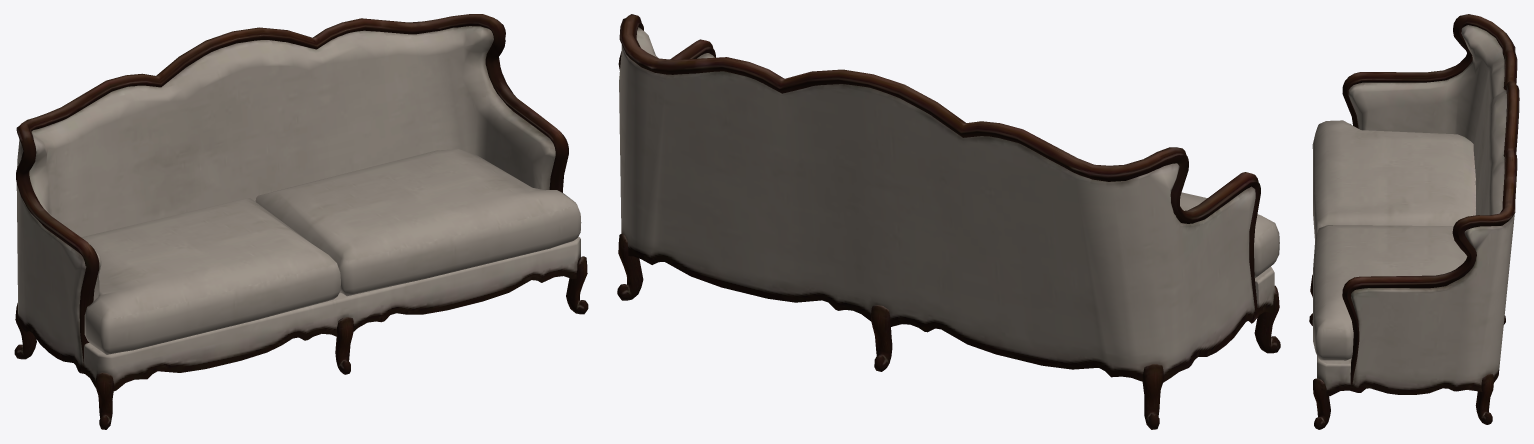
File: sofa.glb
3 renders of one model, left to right at view 1: azimuth 30°, elevation 25°; view 2: azimuth 150°, elevation 25°; view 3: azimuth 270°, elevation 25°, orthographic. The views are drawn at different scales.
Visible parts, largest first — view 1: Sofa_01; view 2: Sofa_01; view 3: Sofa_01.
Part boxes in pixels (x1,y1,x2,y2): Sofa_01: (14, 14, 588, 429); Sofa_01: (617, 14, 1280, 429); Sofa_01: (1309, 14, 1519, 429).
Bounding box in the file's own units: 1.57 × 0.7966 × 0.658.
Materials: 1 (1 with a texture image).
